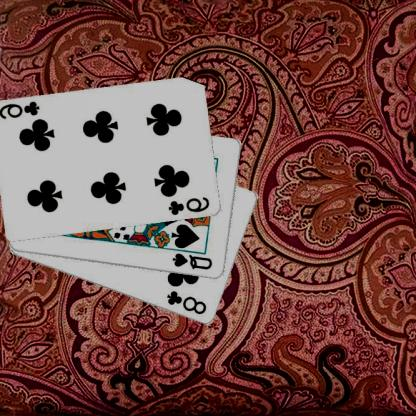6C: (168, 194, 213, 217), (0, 99, 43, 121)
8C: (166, 288, 210, 316)
QS: (172, 251, 215, 271)
